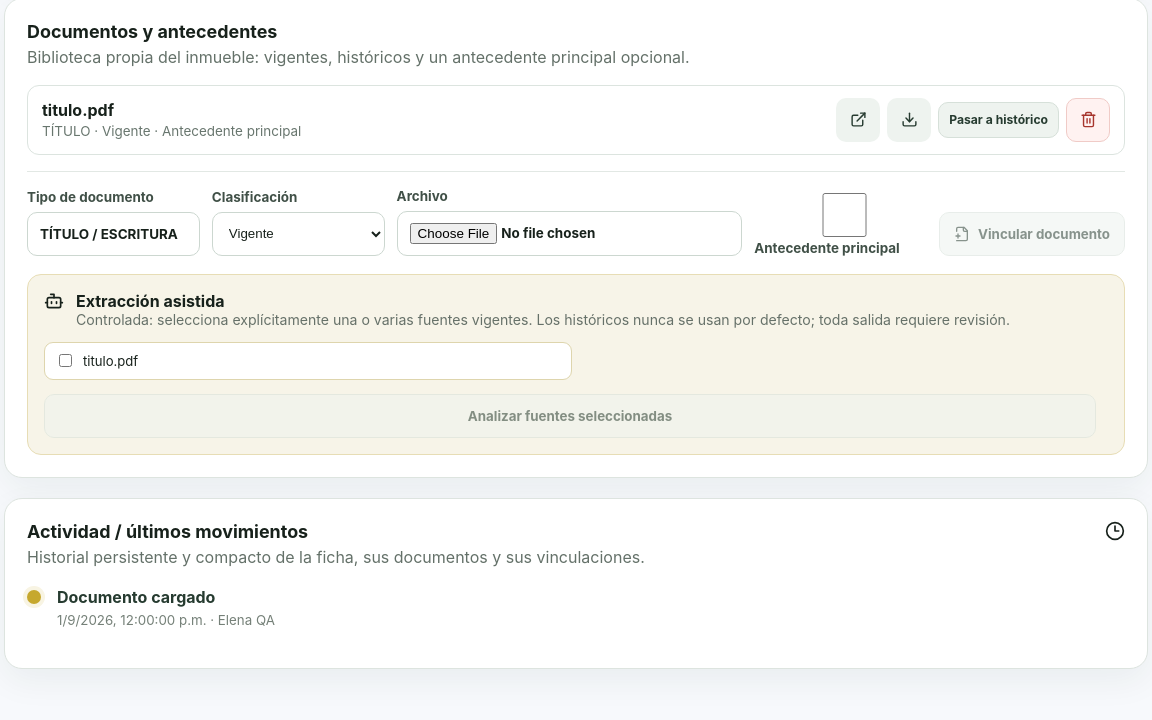
Test: PRD-001 ficha maestra inmobiliaria › reporta faltantes sin insertar DATO NO ENCONTRADO en la ficha
The width and height of the screenshot is (1152, 720).
(page scrolled)
Expected: the text "Extracción asistida" is shown, left=76, top=291, right=224, bottom=311
Click the checkbox labelled "titulo.pdf". click: (66, 361)
box: left=59, top=354, right=72, bottom=367
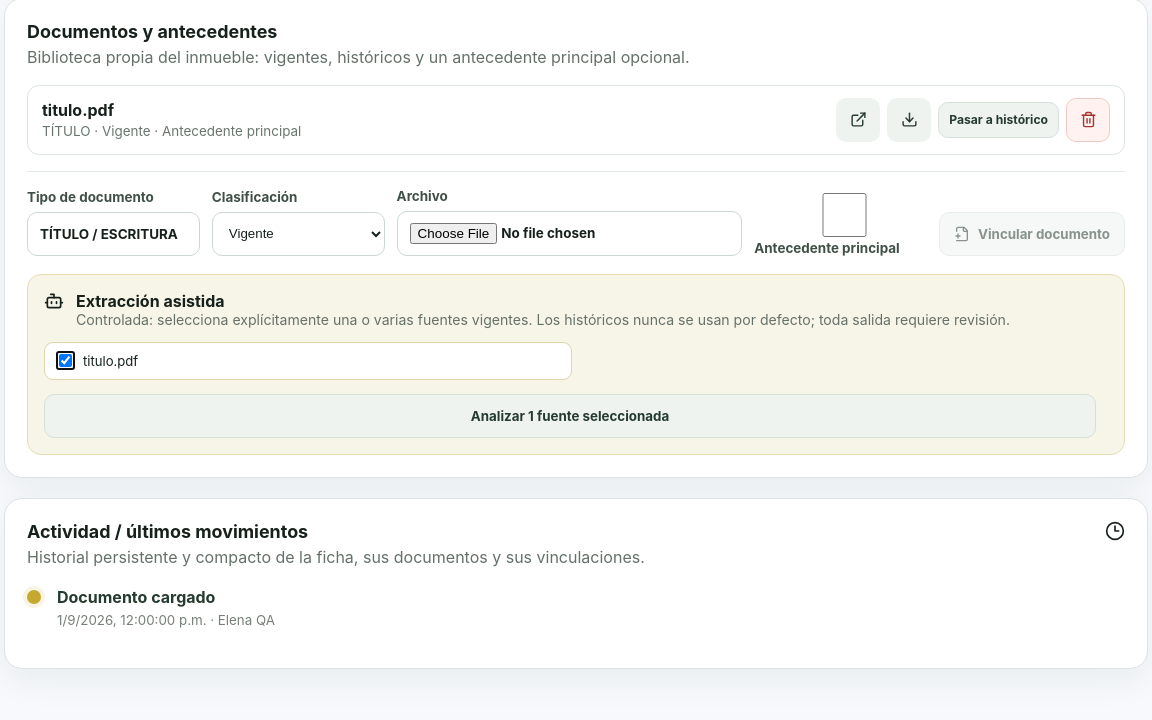
Click the button "Analizar 1 fuente seleccionada". click: (570, 416)
box: left=44, top=394, right=1096, bottom=438
(page scrolled)
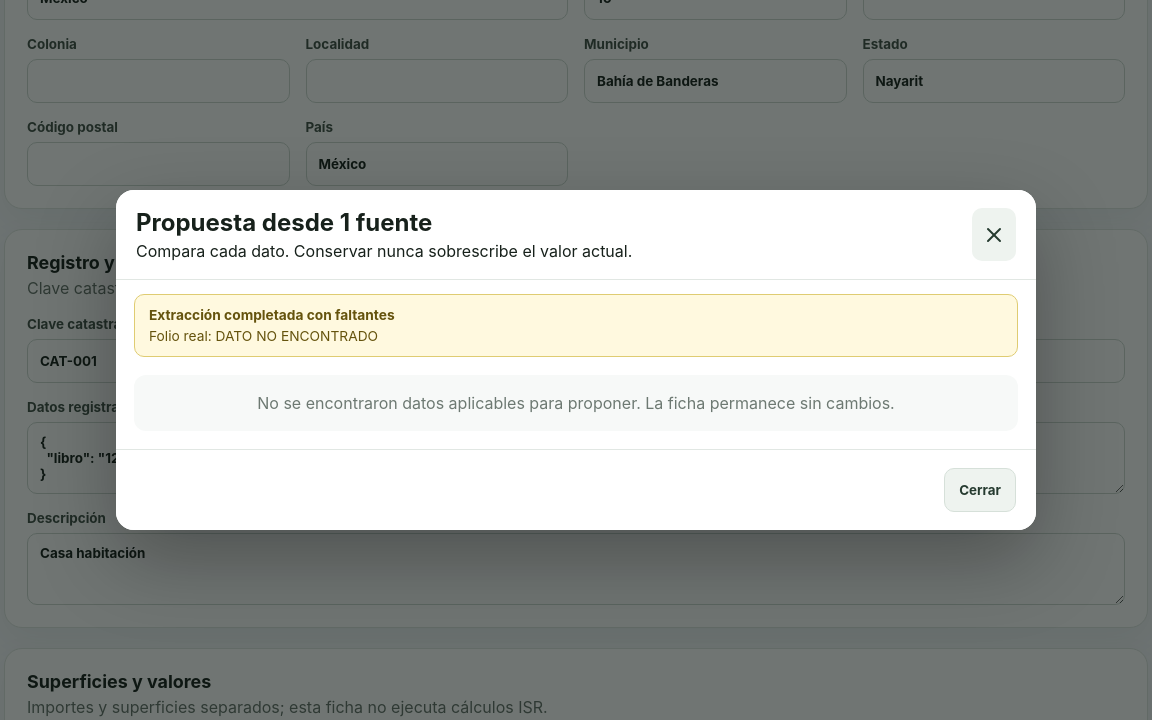
Expected: the field showing "FR-001" is shown, left=584, top=339, right=846, bottom=383
Result: the text "Folio real: DATO NO ENCONTRADO" is shown at left=149, top=328, right=378, bottom=344
